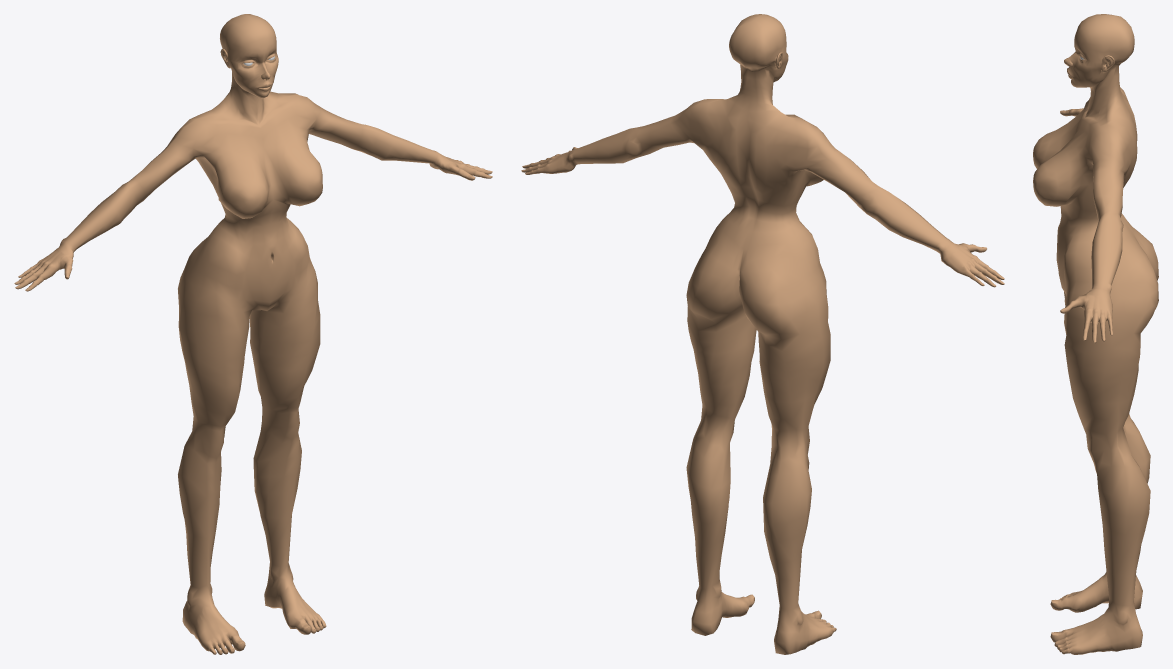
The model's file is titty.glb.
3 renders of one model, left to right at view 1: azimuth 30°, elevation 25°; view 2: azimuth 150°, elevation 25°; view 3: azimuth 270°, elevation 25°, orthographic.
Parts seen in each view (by area): view 1: Cube.001; view 2: Cube.001; view 3: Cube.001.
Boxes of the visible parts, left/top/right/bottom form: Cube.001: left=14, top=14, right=492, bottom=654; Cube.001: left=521, top=14, right=1004, bottom=654; Cube.001: left=1033, top=14, right=1158, bottom=654.
Size of the model in its own units: 1.45 by 1.77 by 0.3296.
